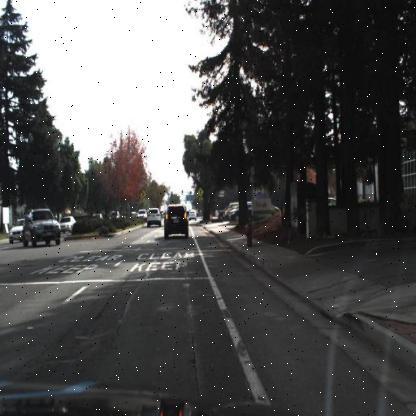car: (21, 204, 61, 249), (225, 200, 263, 227), (164, 202, 188, 238), (57, 212, 76, 236), (145, 204, 162, 228), (56, 213, 77, 232), (146, 208, 162, 228), (89, 210, 104, 224)
